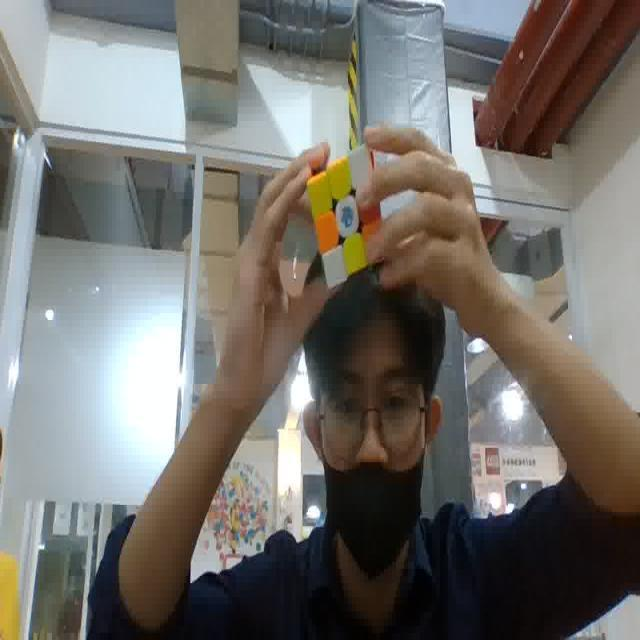Rub: (306, 142, 394, 288)
